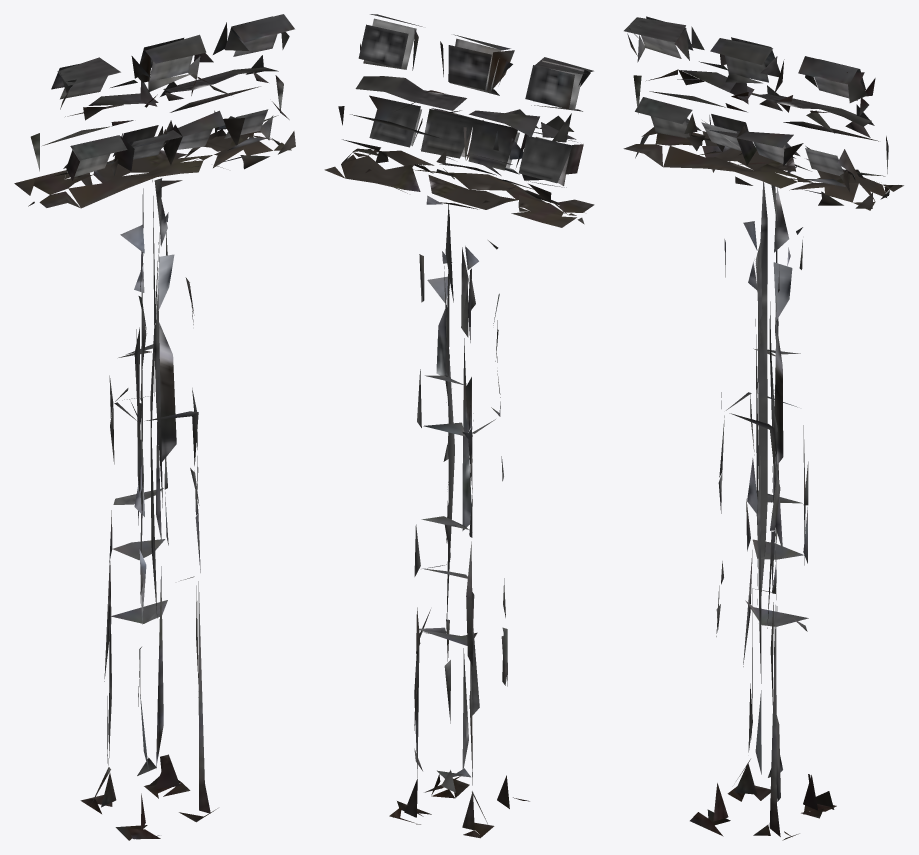
Rendered from drift_flutlicht_lo.glb.
3 views of the same model, side by side, from view 1: azimuth 30°, elevation 25°; view 2: azimuth 150°, elevation 25°; view 3: azimuth 330°, elevation 25° (orthographic). The views are drawn at different scales.
Parts seen in each view (by area): view 1: Prop; view 2: Prop; view 3: Prop.
Part boxes in pixels (x1,y1,x2,y2): Prop: (14,14,295,840); Prop: (324,14,594,838); Prop: (623,16,903,840).
Size of the model in its own units: 0.34 by 1.01 by 0.1255.
1 material, 1 textured.
